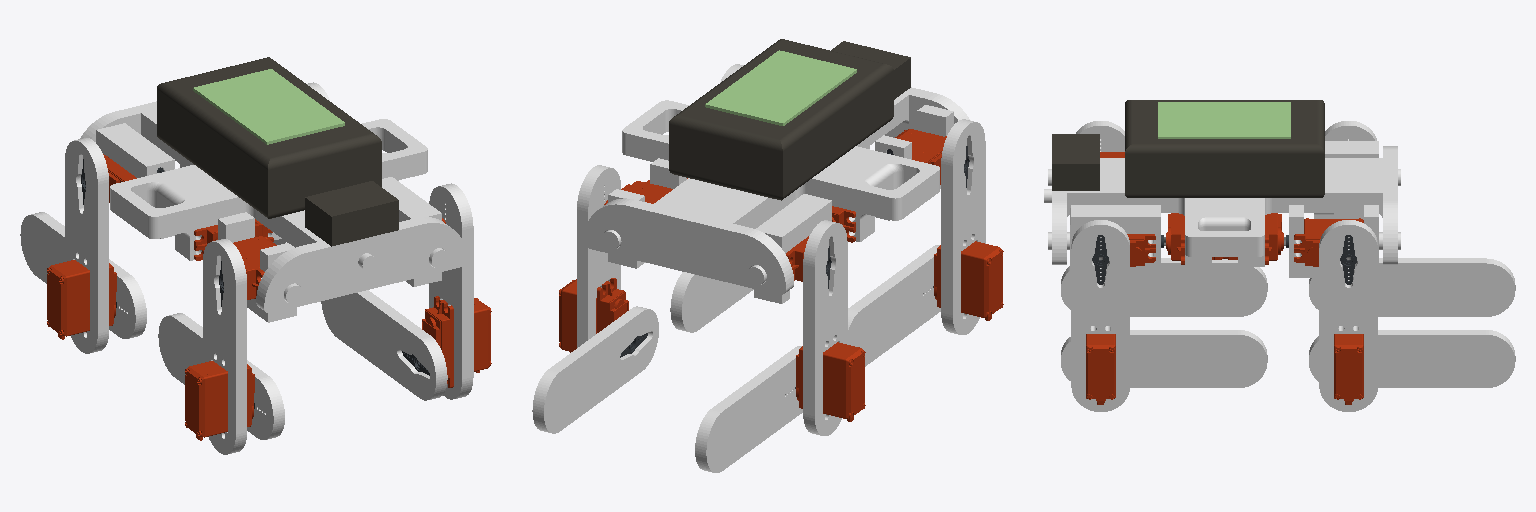
--- Render facts (derived) ---
3 views of the same robot in one strip: view 1: azimuth 30°, elevation 25°; view 2: azimuth 150°, elevation 25°; view 3: azimuth 270°, elevation 25° (orthographic).
Robot: servobot — 9 links, 8 joints (8 revolute); root link chassisasm; default pose: every joint at zero.
Visible links, largest first — view 1: chassisasm, legasmflipped2, legasm2, legasm, hipasm, hipasm_2, hipasm_4; view 2: chassisasm, legasm, legasm2, legasmflipped, hipasm_2, legasmflipped2, hipasm, hipasm_3; view 3: chassisasm, legasmflipped2, legasmflipped, legasm, legasm2, hipasm_4, hipasm_3, hipasm_2.
Boxes of the visible links, <box> form: chassisasm: <box>80,57,466,313</box>; legasmflipped2: <box>321,183,491,400</box>; legasm2: <box>158,239,284,454</box>; legasm: <box>20,138,146,353</box>; hipasm: <box>218,212,302,322</box>; hipasm_2: <box>96,123,174,202</box>; hipasm_4: <box>382,177,448,286</box>; chassisasm: <box>584,39,970,294</box>; legasm: <box>695,220,865,472</box>; legasm2: <box>848,119,1003,366</box>; legasmflipped: <box>532,165,658,433</box>; hipasm_2: <box>747,194,831,303</box>; legasmflipped2: <box>670,64,753,332</box>; hipasm: <box>875,105,953,188</box>; hipasm_3: <box>602,158,686,268</box>; chassisasm: <box>1044,100,1397,266</box>; legasmflipped2: <box>1061,220,1267,411</box>; legasmflipped: <box>1309,220,1515,411</box>; legasm: <box>1309,121,1515,316</box>; legasm2: <box>1061,121,1267,316</box>; hipasm_4: <box>1048,205,1163,277</box>; hipasm_3: <box>1286,205,1400,277</box>; hipasm_2: <box>1325,141,1400,185</box>.
Size in the robot's own frame: 0.2048 by 0.3186 by 0.1796 metres.
52 mesh visuals loaded from 10 distinct referenced files (10 binary STL).

The robot description file, URDF, robot "servobot":
<?xml version="1.0" ?>
<!-- Generated using onshape-to-robot -->
<!-- Onshape document_id: 260e550735e8edce21bf9c86 / workspace_id: 1dd4a4758e6c79e3140f12ff -->
<robot name="servobot">
  <!-- Link chassisasm -->
  <link name="chassisasm">
    <inertial>
      <origin xyz="8.45344e-11 -0.0316171 0.0051848" rpy="0 0 0"/>
      <mass value="1.41284"/>
      <inertia ixx="0.00541257" ixy="3.20299e-11" ixz="2.71365e-11" iyy="0.00160159" iyz="0.000214607" izz="0.0059559"/>
    </inertial>
    <!-- Part part_1 -->
    <visual>
      <origin xyz="1.66923e-17 1.11775e-18 0.04" rpy="3.14159 8.4717e-17 -1.27298e-16"/>
      <geometry>
        <mesh filename="package://servobot_description/meshes/part_1.stl"/>
      </geometry>
      <material name="part_1_material">
        <color rgba="0.301961 0.290196 0.262745 1"/>
      </material>
    </visual>
    <collision>
      <origin xyz="1.66923e-17 1.11775e-18 0.04" rpy="3.14159 8.4717e-17 -1.27298e-16"/>
      <geometry>
        <mesh filename="package://servobot_description/meshes/part_1.stl"/>
      </geometry>
    </collision>
    <!-- Part part_1_2 -->
    <visual>
      <origin xyz="-9.86021e-18 -0.10075 0.02" rpy="3.14159 -4.11687e-16 1.5708"/>
      <geometry>
        <mesh filename="package://servobot_description/meshes/part_1__2.stl"/>
      </geometry>
      <material name="part_1_2_material">
        <color rgba="0.301961 0.290196 0.262745 1"/>
      </material>
    </visual>
    <collision>
      <origin xyz="-9.86021e-18 -0.10075 0.02" rpy="3.14159 -4.11687e-16 1.5708"/>
      <geometry>
        <mesh filename="package://servobot_description/meshes/part_1__2.stl"/>
      </geometry>
    </collision>
    <!-- Part part_1_3 -->
    <visual>
      <origin xyz="-9.25776e-19 6.35691e-19 0.042" rpy="3.14159 1.46005e-16 2.42684e-17"/>
      <geometry>
        <mesh filename="package://servobot_description/meshes/part_1__3.stl"/>
      </geometry>
      <material name="part_1_3_material">
        <color rgba="0.654902 0.823529 0.576471 1"/>
      </material>
    </visual>
    <collision>
      <origin xyz="-9.25776e-19 6.35691e-19 0.042" rpy="3.14159 1.46005e-16 2.42684e-17"/>
      <geometry>
        <mesh filename="package://servobot_description/meshes/part_1__3.stl"/>
      </geometry>
    </collision>
    <!-- Part 2000_0025_0002 -->
    <visual>
      <origin xyz="0.06087 0.0387 -0.025" rpy="-1.5708 -0 0"/>
      <geometry>
        <mesh filename="package://servobot_description/meshes/2000_0025_0002.stl"/>
      </geometry>
      <material name="2000_0025_0002_material">
        <color rgba="0.498039 0.498039 0.498039 1"/>
      </material>
    </visual>
    <collision>
      <origin xyz="0.06087 0.0387 -0.025" rpy="-1.5708 -0 0"/>
      <geometry>
        <mesh filename="package://servobot_description/meshes/2000_0025_0002.stl"/>
      </geometry>
    </collision>
    <!-- Part part_1_4 -->
    <visual>
      <origin xyz="-6.93889e-18 1.38778e-17 -0.015" rpy="-3.88578e-16 2.07294e-16 1.75835e-16"/>
      <geometry>
        <mesh filename="package://servobot_description/meshes/part_1__4.stl"/>
      </geometry>
      <material name="part_1_4_material">
        <color rgba="0.917647 0.917647 0.917647 1"/>
      </material>
    </visual>
    <collision>
      <origin xyz="-6.93889e-18 1.38778e-17 -0.015" rpy="-3.88578e-16 2.07294e-16 1.75835e-16"/>
      <geometry>
        <mesh filename="package://servobot_description/meshes/part_1__4.stl"/>
      </geometry>
    </collision>
    <!-- Part 2000_0025_0002_2 -->
    <visual>
      <origin xyz="0.04117 0.0382 -0.025" rpy="1.5708 -0 3.14159"/>
      <geometry>
        <mesh filename="package://servobot_description/meshes/2000_0025_0002__2.stl"/>
      </geometry>
      <material name="2000_0025_0002_2_material">
        <color rgba="0.729412 0.25098 0.105882 1"/>
      </material>
    </visual>
    <collision>
      <origin xyz="0.04117 0.0382 -0.025" rpy="1.5708 -0 3.14159"/>
      <geometry>
        <mesh filename="package://servobot_description/meshes/2000_0025_0002__2.stl"/>
      </geometry>
    </collision>
    <!-- Part 2000_0025_0002_3 -->
    <visual>
      <origin xyz="-0.04117 -0.0387 -0.025" rpy="1.5708 -0 0"/>
      <geometry>
        <mesh filename="package://servobot_description/meshes/2000_0025_0002.stl"/>
      </geometry>
      <material name="2000_0025_0002_3_material">
        <color rgba="0.498039 0.498039 0.498039 1"/>
      </material>
    </visual>
    <collision>
      <origin xyz="-0.04117 -0.0387 -0.025" rpy="1.5708 -0 0"/>
      <geometry>
        <mesh filename="package://servobot_description/meshes/2000_0025_0002.stl"/>
      </geometry>
    </collision>
    <!-- Part 2000_0025_0002_4 -->
    <visual>
      <origin xyz="-0.04117 0.0387 -0.025" rpy="-1.5708 -0 0"/>
      <geometry>
        <mesh filename="package://servobot_description/meshes/2000_0025_0002.stl"/>
      </geometry>
      <material name="2000_0025_0002_4_material">
        <color rgba="0.498039 0.498039 0.498039 1"/>
      </material>
    </visual>
    <collision>
      <origin xyz="-0.04117 0.0387 -0.025" rpy="-1.5708 -0 0"/>
      <geometry>
        <mesh filename="package://servobot_description/meshes/2000_0025_0002.stl"/>
      </geometry>
    </collision>
    <!-- Part 2000_0025_0002_5 -->
    <visual>
      <origin xyz="-0.04117 -0.0382 -0.025" rpy="1.5708 -0 0"/>
      <geometry>
        <mesh filename="package://servobot_description/meshes/2000_0025_0002__2.stl"/>
      </geometry>
      <material name="2000_0025_0002_5_material">
        <color rgba="0.729412 0.25098 0.105882 1"/>
      </material>
    </visual>
    <collision>
      <origin xyz="-0.04117 -0.0382 -0.025" rpy="1.5708 -0 0"/>
      <geometry>
        <mesh filename="package://servobot_description/meshes/2000_0025_0002__2.stl"/>
      </geometry>
    </collision>
    <!-- Part 2000_0025_0002_6 -->
    <visual>
      <origin xyz="-0.04117 0.0382 -0.025" rpy="-1.5708 -0 0"/>
      <geometry>
        <mesh filename="package://servobot_description/meshes/2000_0025_0002__2.stl"/>
      </geometry>
      <material name="2000_0025_0002_6_material">
        <color rgba="0.729412 0.25098 0.105882 1"/>
      </material>
    </visual>
    <collision>
      <origin xyz="-0.04117 0.0382 -0.025" rpy="-1.5708 -0 0"/>
      <geometry>
        <mesh filename="package://servobot_description/meshes/2000_0025_0002__2.stl"/>
      </geometry>
    </collision>
    <!-- Part 2000_0025_0002_7 -->
    <visual>
      <origin xyz="0.04117 -0.0382 -0.025" rpy="-1.5708 -0 3.14159"/>
      <geometry>
        <mesh filename="package://servobot_description/meshes/2000_0025_0002__2.stl"/>
      </geometry>
      <material name="2000_0025_0002_7_material">
        <color rgba="0.729412 0.25098 0.105882 1"/>
      </material>
    </visual>
    <collision>
      <origin xyz="0.04117 -0.0382 -0.025" rpy="-1.5708 -0 3.14159"/>
      <geometry>
        <mesh filename="package://servobot_description/meshes/2000_0025_0002__2.stl"/>
      </geometry>
    </collision>
    <!-- Part 2000_0025_0002_8 -->
    <visual>
      <origin xyz="0.06087 -0.0387 -0.025" rpy="1.5708 -0 0"/>
      <geometry>
        <mesh filename="package://servobot_description/meshes/2000_0025_0002.stl"/>
      </geometry>
      <material name="2000_0025_0002_8_material">
        <color rgba="0.498039 0.498039 0.498039 1"/>
      </material>
    </visual>
    <collision>
      <origin xyz="0.06087 -0.0387 -0.025" rpy="1.5708 -0 0"/>
      <geometry>
        <mesh filename="package://servobot_description/meshes/2000_0025_0002.stl"/>
      </geometry>
    </collision>
  </link>
  <!-- Link hipasm -->
  <link name="hipasm">
    <inertial>
      <origin xyz="-0.00193017 0.000954683 -0.0300833" rpy="0 0 0"/>
      <mass value="0.0717895"/>
      <inertia ixx="1.86244e-05" ixy="-1.32286e-07" ixz="-6.33322e-08" iyy="2.19537e-05" iyz="-3.99788e-08" izz="1.18822e-05"/>
    </inertial>
    <!-- Part 2000_0025_0002_9 -->
    <visual>
      <origin xyz="-0.0217 5.55112e-17 -0.0296" rpy="-6.1089e-26 -1.5708 0"/>
      <geometry>
        <mesh filename="package://servobot_description/meshes/2000_0025_0002.stl"/>
      </geometry>
      <material name="2000_0025_0002_9_material">
        <color rgba="0.498039 0.498039 0.498039 1"/>
      </material>
    </visual>
    <collision>
      <origin xyz="-0.0217 5.55112e-17 -0.0296" rpy="-6.1089e-26 -1.5708 0"/>
      <geometry>
        <mesh filename="package://servobot_description/meshes/2000_0025_0002.stl"/>
      </geometry>
    </collision>
    <!-- Part part_1_5 -->
    <visual>
      <origin xyz="0.01 -3.46945e-18 -0.0295" rpy="-3.14159 1.5708 0"/>
      <geometry>
        <mesh filename="package://servobot_description/meshes/part_1__5.stl"/>
      </geometry>
      <material name="part_1_5_material">
        <color rgba="0.917647 0.917647 0.917647 1"/>
      </material>
    </visual>
    <collision>
      <origin xyz="0.01 -3.46945e-18 -0.0295" rpy="-3.14159 1.5708 0"/>
      <geometry>
        <mesh filename="package://servobot_description/meshes/part_1__5.stl"/>
      </geometry>
    </collision>
    <!-- Part 2000_0025_0002_10 -->
    <visual>
      <origin xyz="-0.0212 6.245e-17 -0.0296" rpy="1.90215e-31 -1.5708 0"/>
      <geometry>
        <mesh filename="package://servobot_description/meshes/2000_0025_0002__2.stl"/>
      </geometry>
      <material name="2000_0025_0002_10_material">
        <color rgba="0.729412 0.25098 0.105882 1"/>
      </material>
    </visual>
    <collision>
      <origin xyz="-0.0212 6.245e-17 -0.0296" rpy="1.90215e-31 -1.5708 0"/>
      <geometry>
        <mesh filename="package://servobot_description/meshes/2000_0025_0002__2.stl"/>
      </geometry>
    </collision>
    <!-- Part mg995_gear2 -->
    <visual>
      <origin xyz="0 0 -0.002" rpy="0 -0 0"/>
      <geometry>
        <mesh filename="package://servobot_description/meshes/mg995_gear2.stl"/>
      </geometry>
      <material name="mg995_gear2_material">
        <color rgba="0.262745 0.282353 0.301961 1"/>
      </material>
    </visual>
    <collision>
      <origin xyz="0 0 -0.002" rpy="0 -0 0"/>
      <geometry>
        <mesh filename="package://servobot_description/meshes/mg995_gear2.stl"/>
      </geometry>
    </collision>
  </link>
  <!-- Link legasm2 -->
  <link name="legasm2">
    <inertial>
      <origin xyz="-0.00824415 0.071376 0.000683005" rpy="0 0 0"/>
      <mass value="0.0908915"/>
      <inertia ixx="6.6747e-05" ixy="1.02938e-05" ixz="1.55237e-05" iyy="7.17021e-05" iyz="-4.38861e-06" izz="0.00010584"/>
    </inertial>
    <!-- Part mg995_gear2_2 -->
    <visual>
      <origin xyz="0 0 -0.002" rpy="0 -3.39112e-41 0"/>
      <geometry>
        <mesh filename="package://servobot_description/meshes/mg995_gear2.stl"/>
      </geometry>
      <material name="mg995_gear2_2_material">
        <color rgba="0.262745 0.282353 0.301961 1"/>
      </material>
    </visual>
    <collision>
      <origin xyz="0 0 -0.002" rpy="0 -3.39112e-41 0"/>
      <geometry>
        <mesh filename="package://servobot_description/meshes/mg995_gear2.stl"/>
      </geometry>
    </collision>
    <!-- Part part_1_6 -->
    <visual>
      <origin xyz="-0.0427644 0.0851134 0.0174" rpy="3.03099e-18 2.00394e-17 -1.5708"/>
      <geometry>
        <mesh filename="package://servobot_description/meshes/part_1__6.stl"/>
      </geometry>
      <material name="part_1_6_material">
        <color rgba="0.917647 0.917647 0.917647 1"/>
      </material>
    </visual>
    <collision>
      <origin xyz="-0.0427644 0.0851134 0.0174" rpy="3.03099e-18 2.00394e-17 -1.5708"/>
      <geometry>
        <mesh filename="package://servobot_description/meshes/part_1__6.stl"/>
      </geometry>
    </collision>
    <!-- Part part_1_7 -->
    <visual>
      <origin xyz="-2.77556e-17 0.0425934 0.003" rpy="-3.14159 4.93038e-32 5.55112e-17"/>
      <geometry>
        <mesh filename="package://servobot_description/meshes/part_1__7.stl"/>
      </geometry>
      <material name="part_1_7_material">
        <color rgba="0.917647 0.917647 0.917647 1"/>
      </material>
    </visual>
    <collision>
      <origin xyz="-2.77556e-17 0.0425934 0.003" rpy="-3.14159 4.93038e-32 5.55112e-17"/>
      <geometry>
        <mesh filename="package://servobot_description/meshes/part_1__7.stl"/>
      </geometry>
    </collision>
    <!-- Part 2000_0025_0002_11 -->
    <visual>
      <origin xyz="-2.77556e-17 0.0752634 0.0142" rpy="3.03099e-18 2.00394e-17 -1.5708"/>
      <geometry>
        <mesh filename="package://servobot_description/meshes/2000_0025_0002__2.stl"/>
      </geometry>
      <material name="2000_0025_0002_11_material">
        <color rgba="0.729412 0.25098 0.105882 1"/>
      </material>
    </visual>
    <collision>
      <origin xyz="-2.77556e-17 0.0752634 0.0142" rpy="3.03099e-18 2.00394e-17 -1.5708"/>
      <geometry>
        <mesh filename="package://servobot_description/meshes/2000_0025_0002__2.stl"/>
      </geometry>
    </collision>
    <!-- Part 2000_0025_0002_12 -->
    <visual>
      <origin xyz="2.77556e-17 0.0752634 0.0147" rpy="-3.17154e-17 2.00394e-17 -1.5708"/>
      <geometry>
        <mesh filename="package://servobot_description/meshes/2000_0025_0002.stl"/>
      </geometry>
      <material name="2000_0025_0002_12_material">
        <color rgba="0.498039 0.498039 0.498039 1"/>
      </material>
    </visual>
    <collision>
      <origin xyz="2.77556e-17 0.0752634 0.0147" rpy="-3.17154e-17 2.00394e-17 -1.5708"/>
      <geometry>
        <mesh filename="package://servobot_description/meshes/2000_0025_0002.stl"/>
      </geometry>
    </collision>
    <!-- Part mg995_gear2_3 -->
    <visual>
      <origin xyz="2.77556e-17 0.0851134 0.0224" rpy="-3.14159 -2.00394e-17 1.5708"/>
      <geometry>
        <mesh filename="package://servobot_description/meshes/mg995_gear2.stl"/>
      </geometry>
      <material name="mg995_gear2_3_material">
        <color rgba="0.262745 0.282353 0.301961 1"/>
      </material>
    </visual>
    <collision>
      <origin xyz="2.77556e-17 0.0851134 0.0224" rpy="-3.14159 -2.00394e-17 1.5708"/>
      <geometry>
        <mesh filename="package://servobot_description/meshes/mg995_gear2.stl"/>
      </geometry>
    </collision>
  </link>
  <!-- Joint from hipasm to legasm2 -->
  <joint name="bl_top" type="revolute">
    <origin xyz="-0.0274 2.77556e-17 -0.03945" rpy="6.1089e-26 1.5708 0"/>
    <parent link="hipasm"/>
    <child link="legasm2"/>
    <axis xyz="0 0 1"/>
    <limit effort="10" velocity="10" lower="-3.14159" upper="3.14159"/>
  </joint>
  <!-- Joint from chassisasm to hipasm -->
  <joint name="bl_hip" type="revolute">
    <origin xyz="-0.05102 -0.0444 -0.025" rpy="-1.5708 -0 0"/>
    <parent link="chassisasm"/>
    <child link="hipasm"/>
    <axis xyz="0 0 1"/>
    <limit effort="10" velocity="10" lower="-1" upper="1"/>
  </joint>
  <!-- Link hipasm_2 -->
  <link name="hipasm_2">
    <inertial>
      <origin xyz="-0.00193017 0.000954683 -0.0300833" rpy="0 0 0"/>
      <mass value="0.0717895"/>
      <inertia ixx="1.86244e-05" ixy="-1.32286e-07" ixz="-6.33322e-08" iyy="2.19537e-05" iyz="-3.99788e-08" izz="1.18822e-05"/>
    </inertial>
    <!-- Part 2000_0025_0002_13 -->
    <visual>
      <origin xyz="-0.0217 6.245e-17 -0.0296" rpy="-0 -1.5708 0"/>
      <geometry>
        <mesh filename="package://servobot_description/meshes/2000_0025_0002.stl"/>
      </geometry>
      <material name="2000_0025_0002_13_material">
        <color rgba="0.498039 0.498039 0.498039 1"/>
      </material>
    </visual>
    <collision>
      <origin xyz="-0.0217 6.245e-17 -0.0296" rpy="-0 -1.5708 0"/>
      <geometry>
        <mesh filename="package://servobot_description/meshes/2000_0025_0002.stl"/>
      </geometry>
    </collision>
    <!-- Part part_1_8 -->
    <visual>
      <origin xyz="0.01 -3.46945e-18 -0.0295" rpy="-3.14159 1.5708 0"/>
      <geometry>
        <mesh filename="package://servobot_description/meshes/part_1__5.stl"/>
      </geometry>
      <material name="part_1_8_material">
        <color rgba="0.917647 0.917647 0.917647 1"/>
      </material>
    </visual>
    <collision>
      <origin xyz="0.01 -3.46945e-18 -0.0295" rpy="-3.14159 1.5708 0"/>
      <geometry>
        <mesh filename="package://servobot_description/meshes/part_1__5.stl"/>
      </geometry>
    </collision>
    <!-- Part 2000_0025_0002_14 -->
    <visual>
      <origin xyz="-0.0212 7.28584e-17 -0.0296" rpy="-0 -1.5708 0"/>
      <geometry>
        <mesh filename="package://servobot_description/meshes/2000_0025_0002__2.stl"/>
      </geometry>
      <material name="2000_0025_0002_14_material">
        <color rgba="0.729412 0.25098 0.105882 1"/>
      </material>
    </visual>
    <collision>
      <origin xyz="-0.0212 7.28584e-17 -0.0296" rpy="-0 -1.5708 0"/>
      <geometry>
        <mesh filename="package://servobot_description/meshes/2000_0025_0002__2.stl"/>
      </geometry>
    </collision>
    <!-- Part mg995_gear2_4 -->
    <visual>
      <origin xyz="0 0 -0.002" rpy="0 -0 0"/>
      <geometry>
        <mesh filename="package://servobot_description/meshes/mg995_gear2.stl"/>
      </geometry>
      <material name="mg995_gear2_4_material">
        <color rgba="0.262745 0.282353 0.301961 1"/>
      </material>
    </visual>
    <collision>
      <origin xyz="0 0 -0.002" rpy="0 -0 0"/>
      <geometry>
        <mesh filename="package://servobot_description/meshes/mg995_gear2.stl"/>
      </geometry>
    </collision>
  </link>
  <!-- Link legasm -->
  <link name="legasm">
    <inertial>
      <origin xyz="-0.00824415 0.071376 0.000683005" rpy="0 0 0"/>
      <mass value="0.0908915"/>
      <inertia ixx="6.6747e-05" ixy="1.02938e-05" ixz="1.55237e-05" iyy="7.17021e-05" iyz="-4.38861e-06" izz="0.00010584"/>
    </inertial>
    <!-- Part mg995_gear2_5 -->
    <visual>
      <origin xyz="-1.38778e-17 0 -0.002" rpy="0 -0 2.34193e-31"/>
      <geometry>
        <mesh filename="package://servobot_description/meshes/mg995_gear2.stl"/>
      </geometry>
      <material name="mg995_gear2_5_material">
        <color rgba="0.262745 0.282353 0.301961 1"/>
      </material>
    </visual>
    <collision>
      <origin xyz="-1.38778e-17 0 -0.002" rpy="0 -0 2.34193e-31"/>
      <geometry>
        <mesh filename="package://servobot_description/meshes/mg995_gear2.stl"/>
      </geometry>
    </collision>
    <!-- Part part_1_9 -->
    <visual>
      <origin xyz="-0.0427644 0.0851134 0.0174" rpy="0 -0 -1.5708"/>
      <geometry>
        <mesh filename="package://servobot_description/meshes/part_1__6.stl"/>
      </geometry>
      <material name="part_1_9_material">
        <color rgba="0.917647 0.917647 0.917647 1"/>
      </material>
    </visual>
    <collision>
      <origin xyz="-0.0427644 0.0851134 0.0174" rpy="0 -0 -1.5708"/>
      <geometry>
        <mesh filename="package://servobot_description/meshes/part_1__6.stl"/>
      </geometry>
    </collision>
    <!-- Part part_1_10 -->
    <visual>
      <origin xyz="2.77556e-17 0.0425934 0.003" rpy="3.14159 -0 3.05311e-16"/>
      <geometry>
        <mesh filename="package://servobot_description/meshes/part_1__7.stl"/>
      </geometry>
      <material name="part_1_10_material">
        <color rgba="0.917647 0.917647 0.917647 1"/>
      </material>
    </visual>
    <collision>
      <origin xyz="2.77556e-17 0.0425934 0.003" rpy="3.14159 -0 3.05311e-16"/>
      <geometry>
        <mesh filename="package://servobot_description/meshes/part_1__7.stl"/>
      </geometry>
    </collision>
    <!-- Part 2000_0025_0002_15 -->
    <visual>
      <origin xyz="4.16334e-17 0.0752634 0.0142" rpy="0 -0 -1.5708"/>
      <geometry>
        <mesh filename="package://servobot_description/meshes/2000_0025_0002__2.stl"/>
      </geometry>
      <material name="2000_0025_0002_15_material">
        <color rgba="0.729412 0.25098 0.105882 1"/>
      </material>
    </visual>
    <collision>
      <origin xyz="4.16334e-17 0.0752634 0.0142" rpy="0 -0 -1.5708"/>
      <geometry>
        <mesh filename="package://servobot_description/meshes/2000_0025_0002__2.stl"/>
      </geometry>
    </collision>
    <!-- Part 2000_0025_0002_16 -->
    <visual>
      <origin xyz="2.77556e-17 0.0752634 0.0147" rpy="0 -0 -1.5708"/>
      <geometry>
        <mesh filename="package://servobot_description/meshes/2000_0025_0002.stl"/>
      </geometry>
      <material name="2000_0025_0002_16_material">
        <color rgba="0.498039 0.498039 0.498039 1"/>
      </material>
    </visual>
    <collision>
      <origin xyz="2.77556e-17 0.0752634 0.0147" rpy="0 -0 -1.5708"/>
      <geometry>
        <mesh filename="package://servobot_description/meshes/2000_0025_0002.stl"/>
      </geometry>
    </collision>
    <!-- Part mg995_gear2_6 -->
    <visual>
      <origin xyz="4.16334e-17 0.0851134 0.0224" rpy="3.14159 -0 1.5708"/>
      <geometry>
        <mesh filename="package://servobot_description/meshes/mg995_gear2.stl"/>
      </geometry>
      <material name="mg995_gear2_6_material">
        <color rgba="0.262745 0.282353 0.301961 1"/>
      </material>
    </visual>
    <collision>
      <origin xyz="4.16334e-17 0.0851134 0.0224" rpy="3.14159 -0 1.5708"/>
      <geometry>
        <mesh filename="package://servobot_description/meshes/mg995_gear2.stl"/>
      </geometry>
    </collision>
  </link>
  <!-- Joint from hipasm_2 to legasm -->
  <joint name="fl_top" type="revolute">
    <origin xyz="-0.0274 6.245e-17 -0.03945" rpy="-3.14159 -1.5708 0"/>
    <parent link="hipasm_2"/>
    <child link="legasm"/>
    <axis xyz="0 0 1"/>
    <limit effort="10" velocity="10" lower="-3.14159" upper="3.14159"/>
  </joint>
  <!-- Joint from chassisasm to hipasm_2 -->
  <joint name="fl_hip" type="revolute">
    <origin xyz="-0.05102 0.0444 -0.025" rpy="1.5708 -0 0"/>
    <parent link="chassisasm"/>
    <child link="hipasm_2"/>
    <axis xyz="0 0 1"/>
    <limit effort="10" velocity="10" lower="-1" upper="1"/>
  </joint>
  <!-- Link hipasm_3 -->
  <link name="hipasm_3">
    <inertial>
      <origin xyz="-0.00193017 0.000954683 -0.0300833" rpy="0 0 0"/>
      <mass value="0.0717895"/>
      <inertia ixx="1.86244e-05" ixy="-1.32286e-07" ixz="-6.33322e-08" iyy="2.19537e-05" iyz="-3.99788e-08" izz="1.18822e-05"/>
    </inertial>
    <!-- Part 2000_0025_0002_17 -->
    <visual>
      <origin xyz="-0.0217 4.16334e-17 -0.0296" rpy="-0 -1.5708 0"/>
      <geometry>
        <mesh filename="package://servobot_description/meshes/2000_0025_0002.stl"/>
      </geometry>
      <material name="2000_0025_0002_17_material">
        <color rgba="0.498039 0.498039 0.498039 1"/>
      </material>
    </visual>
    <collision>
      <origin xyz="-0.0217 4.16334e-17 -0.0296" rpy="-0 -1.5708 0"/>
      <geometry>
        <mesh filename="package://servobot_description/meshes/2000_0025_0002.stl"/>
      </geometry>
    </collision>
    <!-- Part part_1_11 -->
    <visual>
      <origin xyz="0.01 -3.46945e-18 -0.0295" rpy="-3.14159 1.5708 0"/>
      <geometry>
        <mesh filename="package://servobot_description/meshes/part_1__5.stl"/>
      </geometry>
      <material name="part_1_11_material">
        <color rgba="0.917647 0.917647 0.917647 1"/>
      </material>
    </visual>
    <collision>
      <origin xyz="0.01 -3.46945e-18 -0.0295" rpy="-3.14159 1.5708 0"/>
      <geometry>
        <mesh filename="package://servobot_description/meshes/part_1__5.stl"/>
      </geometry>
    </collision>
    <!-- Part 2000_0025_0002_18 -->
    <visual>
      <origin xyz="-0.0212 5.20417e-17 -0.0296" rpy="-0 -1.5708 0"/>
      <geometry>
        <mesh filename="package://servobot_description/meshes/2000_0025_0002__2.stl"/>
      </geometry>
      <material name="2000_0025_0002_18_material">
        <color rgba="0.729412 0.25098 0.105882 1"/>
      </material>
    </visual>
    <collision>
      <origin xyz="-0.0212 5.20417e-17 -0.0296" rpy="-0 -1.5708 0"/>
      <geometry>
        <mesh filename="package://servobot_description/meshes/2000_0025_0002__2.stl"/>
      </geometry>
    </collision>
    <!-- Part mg995_gear2_7 -->
    <visual>
      <origin xyz="0 0 -0.002" rpy="0 -0 0"/>
      <geometry>
        <mesh filename="package://servobot_description/meshes/mg995_gear2.stl"/>
      </geometry>
      <material name="mg995_gear2_7_material">
        <color rgba="0.262745 0.282353 0.301961 1"/>
      </material>
    </visual>
    <collision>
      <origin xyz="0 0 -0.002" rpy="0 -0 0"/>
      <geometry>
        <mesh filename="package://servobot_description/meshes/mg995_gear2.stl"/>
      </geometry>
    </collision>
  </link>
  <!-- Link legasmflipped -->
  <link name="legasmflipped">
    <inertial>
      <origin xyz="0.00824415 0.071376 0.000683005" rpy="0 0 0"/>
      <mass value="0.0908915"/>
      <inertia ixx="6.6747e-05" ixy="-1.02938e-05" ixz="-1.55237e-05" iyy="7.17021e-05" iyz="-4.38861e-06" izz="0.00010584"/>
    </inertial>
    <!-- Part mg995_gear2_8 -->
    <visual>
      <origin xyz="0 0 -0.002" rpy="0 -0 -2.46519e-32"/>
      <geometry>
        <mesh filename="package://servobot_description/meshes/mg995_gear2.stl"/>
      </geometry>
      <material name="mg995_gear2_8_material">
        <color rgba="0.262745 0.282353 0.301961 1"/>
      </material>
    </visual>
    <collision>
      <origin xyz="0 0 -0.002" rpy="0 -0 -2.46519e-32"/>
      <geometry>
        <mesh filename="package://servobot_description/meshes/mg995_gear2.stl"/>
      </geometry>
    </collision>
    <!-- Part part_1_12 -->
    <visual>
      <origin xyz="0.0427644 0.0851134 0.0174" rpy="1.1993e-17 -8.06087e-17 1.5708"/>
      <geometry>
        <mesh filename="package://servobot_description/meshes/part_1__6.stl"/>
      </geometry>
      <material name="part_1_12_material">
        <color rgba="0.917647 0.917647 0.917647 1"/>
      </material>
    </visual>
    <collision>
      <origin xyz="0.0427644 0.0851134 0.0174" rpy="1.1993e-17 -8.06087e-17 1.5708"/>
      <geometry>
        <mesh filename="package://servobot_description/meshes/part_1__6.stl"/>
      </geometry>
    </collision>
    <!-- Part part_1_13 -->
    <visual>
      <origin xyz="-8.32667e-17 0.0425934 0.003" rpy="-3.14159 8.50122e-16 -1.30122e-15"/>
      <geometry>
        <mesh filename="package://servobot_description/meshes/part_1__7.stl"/>
      </geometry>
      <material name="part_1_13_material">
        <color rgba="0.917647 0.917647 0.917647 1"/>
      </material>
    </visual>
    <collision>
      <origin xyz="-8.32667e-17 0.0425934 0.003" rpy="-3.14159 8.50122e-16 -1.30122e-15"/>
      <geometry>
        <mesh filename="package://servobot_description/meshes/part_1__7.stl"/>
      </geometry>
    </collision>
    <!-- Part 2000_0025_0002_19 -->
    <visual>
      <origin xyz="-1.80411e-16 0.0752634 0.0142" rpy="-1.69366e-15 4.58953e-16 -1.5708"/>
      <geometry>
        <mesh filename="package://servobot_description/meshes/2000_0025_0002__2.stl"/>
      </geometry>
      <material name="2000_0025_0002_19_material">
        <color rgba="0.729412 0.25098 0.105882 1"/>
      </material>
    </visual>
    <collision>
      <origin xyz="-1.80411e-16 0.0752634 0.0142" rpy="-1.69366e-15 4.58953e-16 -1.5708"/>
      <geometry>
        <mesh filename="package://servobot_description/meshes/2000_0025_0002__2.stl"/>
      </geometry>
    </collision>
    <!-- Part 2000_0025_0002_20 -->
    <visual>
      <origin xyz="-2.63678e-16 0.0949634 0.0147" rpy="4.62084e-16 6.20402e-16 1.5708"/>
      <geometry>
        <mesh filename="package://servobot_description/meshes/2000_0025_0002.stl"/>
      </geometry>
      <material name="2000_0025_0002_20_material">
        <color rgba="0.498039 0.498039 0.498039 1"/>
      </material>
    </visual>
    <collision>
      <origin xyz="-2.63678e-16 0.0949634 0.0147" rpy="4.62084e-16 6.20402e-16 1.5708"/>
      <geometry>
        <mesh filename="package://servobot_description/meshes/2000_0025_0002.stl"/>
      </geometry>
    </collision>
    <!-- Part mg995_gear2_9 -->
    <visual>
      <origin xyz="-2.63678e-16 0.0851134 0.0224" rpy="-3.14159 -2.13928e-16 -1.5708"/>
      <geometry>
        <mesh filename="package://servobot_description/meshes/mg995_gear2.stl"/>
      </geometry>
      <material name="mg995_gear2_9_material">
        <color rgba="0.262745 0.282353 0.301961 1"/>
      </material>
    </visual>
    <collision>
      <origin xyz="-2.63678e-16 0.0851134 0.0224" rpy="-3.14159 -2.13928e-16 -1.5708"/>
      <geometry>
        <mesh filename="package://servobot_description/meshes/mg995_gear2.stl"/>
      </geometry>
    </collision>
  </link>
  <!-- Joint from hipasm_3 to legasmflipped -->
  <joint name="fr_top" type="revolute">
    <origin xyz="-0.0274 4.85723e-17 -0.03945" rpy="-0 1.5708 0"/>
    <parent link="hipasm_3"/>
    <child link="legasmflipped"/>
    <axis xyz="0 0 1"/>
    <limit effort="10" velocity="10" lower="-3.14159" upper="3.14159"/>
  </joint>
  <!-- Joint from chassisasm to hipasm_3 -->
  <joint name="fr_hip" type="revolute">
    <origin xyz="0.05102 0.0444 -0.025" rpy="-1.5708 -0 3.14159"/>
    <parent link="chassisasm"/>
    <child link="hipasm_3"/>
    <axis xyz="0 0 1"/>
    <limit effort="10" velocity="10" lower="-1" upper="1"/>
  </joint>
  <!-- Link hipasm_4 -->
  <link name="hipasm_4">
    <inertial>
      <origin xyz="-0.00193017 0.000954683 -0.0300833" rpy="0 0 0"/>
      <mass value="0.0717895"/>
      <inertia ixx="1.86244e-05" ixy="-1.32286e-07" ixz="-6.33322e-08" iyy="2.19537e-05" iyz="-3.99788e-08" izz="1.18822e-05"/>
    </inertial>
    <!-- Part 2000_0025_0002_21 -->
    <visual>
      <origin xyz="-0.0217 5.55112e-17 -0.0296" rpy="-5.77604e-16 -1.5708 0"/>
      <geometry>
        <mesh filename="package://servobot_description/meshes/2000_0025_0002.stl"/>
      </geometry>
      <material name="2000_0025_0002_21_material">
        <color rgba="0.498039 0.498039 0.498039 1"/>
      </material>
    </visual>
    <collision>
      <origin xyz="-0.0217 5.55112e-17 -0.0296" rpy="-5.77604e-16 -1.5708 0"/>
      <geometry>
        <mesh filename="package://servobot_description/meshes/2000_0025_0002.stl"/>
      </geometry>
    </collision>
    <!-- Part part_1_14 -->
    <visual>
      <origin xyz="0.01 -3.46945e-18 -0.0295" rpy="-3.14159 1.5708 0"/>
      <geometry>
        <mesh filename="package://servobot_description/meshes/part_1__5.stl"/>
      </geometry>
      <material name="part_1_14_material">
        <color rgba="0.917647 0.917647 0.917647 1"/>
      </material>
    </visual>
    <collision>
      <origin xyz="0.01 -3.46945e-18 -0.0295" rpy="-3.14159 1.5708 0"/>
      <geometry>
        <mesh filename="package://servobot_description/meshes/part_1__5.stl"/>
      </geometry>
    </collision>
    <!-- Part 2000_0025_0002_22 -->
    <visual>
      <origin xyz="-0.0212 6.245e-17 -0.0296" rpy="-2.85027e-16 -1.5708 0"/>
      <geometry>
        <mesh filename="package://servobot_description/meshes/2000_0025_0002__2.stl"/>
      </geometry>
      <material name="2000_0025_0002_22_material">
        <color rgba="0.729412 0.25098 0.105882 1"/>
      </material>
    </visual>
    <collision>
      <origin xyz="-0.0212 6.245e-17 -0.0296" rpy="-2.85027e-16 -1.5708 0"/>
      <geometry>
        <mesh filename="package://servobot_description/meshes/2000_0025_0002__2.stl"/>
      </geometry>
    </collision>
    <!-- Part mg995_gear2_10 -->
    <visual>
      <origin xyz="0 0 -0.002" rpy="0 -0 0"/>
      <geometry>
        <mesh filename="package://servobot_description/meshes/mg995_gear2.stl"/>
      </geometry>
      <material name="mg995_gear2_10_material">
        <color rgba="0.262745 0.282353 0.301961 1"/>
      </material>
    </visual>
    <collision>
      <origin xyz="0 0 -0.002" rpy="0 -0 0"/>
      <geometry>
        <mesh filename="package://servobot_description/meshes/mg995_gear2.stl"/>
      </geometry>
    </collision>
  </link>
  <!-- Link legasmflipped2 -->
  <link name="legasmflipped2">
    <inertial>
      <origin xyz="0.00824415 0.071376 0.000683005" rpy="0 0 0"/>
      <mass value="0.0908915"/>
      <inertia ixx="6.6747e-05" ixy="-1.02938e-05" ixz="-1.55237e-05" iyy="7.17021e-05" iyz="-4.38861e-06" izz="0.00010584"/>
    </inertial>
    <!-- Part mg995_gear2_11 -->
    <visual>
      <origin xyz="0 0 -0.002" rpy="0 2.57699e-33 0"/>
      <geometry>
        <mesh filename="package://servobot_description/meshes/mg995_gear2.stl"/>
      </geometry>
      <material name="mg995_gear2_11_material">
        <color rgba="0.262745 0.282353 0.301961 1"/>
      </material>
    </visual>
    <collision>
      <origin xyz="0 0 -0.002" rpy="0 2.57699e-33 0"/>
      <geometry>
        <mesh filename="package://servobot_description/meshes/mg995_gear2.stl"/>
      </geometry>
    </collision>
    <!-- Part part_1_15 -->
    <visual>
      <origin xyz="0.0427644 0.0851134 0.0174" rpy="2.16429e-16 -1.17897e-16 1.5708"/>
      <geometry>
        <mesh filename="package://servobot_description/meshes/part_1__6.stl"/>
      </geometry>
      <material name="part_1_15_material">
        <color rgba="0.917647 0.917647 0.917647 1"/>
      </material>
    </visual>
    <collision>
      <origin xyz="0.0427644 0.0851134 0.0174" rpy="2.16429e-16 -1.17897e-16 1.5708"/>
      <geometry>
        <mesh filename="package://servobot_description/meshes/part_1__6.stl"/>
      </geometry>
    </collision>
    <!-- Part part_1_16 -->
    <visual>
      <origin xyz="0 0.0425934 0.003" rpy="-3.14159 1.08596e-31 -5.55112e-17"/>
      <geometry>
        <mesh filename="package://servobot_description/meshes/part_1__7.stl"/>
      </geometry>
      <material name="part_1_16_material">
        <color rgba="0.917647 0.917647 0.917647 1"/>
      </material>
    </visual>
    <collision>
      <origin xyz="0 0.0425934 0.003" rpy="-3.14159 1.08596e-31 -5.55112e-17"/>
      <geometry>
        <mesh filename="package://servobot_description/meshes/part_1__7.stl"/>
      </geometry>
    </collision>
    <!-- Part 2000_0025_0002_23 -->
    <visual>
      <origin xyz="-1.38778e-17 0.0752634 0.0142" rpy="1.10168e-17 -3.2762e-18 -1.5708"/>
      <geometry>
        <mesh filename="package://servobot_description/meshes/2000_0025_0002__2.stl"/>
      </geometry>
      <material name="2000_0025_0002_23_material">
        <color rgba="0.729412 0.25098 0.105882 1"/>
      </material>
    </visual>
    <collision>
      <origin xyz="-1.38778e-17 0.0752634 0.0142" rpy="1.10168e-17 -3.2762e-18 -1.5708"/>
      <geometry>
        <mesh filename="package://servobot_description/meshes/2000_0025_0002__2.stl"/>
      </geometry>
    </collision>
    <!-- Part 2000_0025_0002_24 -->
    <visual>
      <origin xyz="-1.38778e-17 0.0949634 0.0147" rpy="8.8305e-17 -1.22783e-16 1.5708"/>
      <geometry>
        <mesh filename="package://servobot_description/meshes/2000_0025_0002.stl"/>
      </geometry>
      <material name="2000_0025_0002_24_material">
        <color rgba="0.498039 0.498039 0.498039 1"/>
      </material>
    </visual>
    <collision>
      <origin xyz="-1.38778e-17 0.0949634 0.0147" rpy="8.8305e-17 -1.22783e-16 1.5708"/>
      <geometry>
        <mesh filename="package://servobot_description/meshes/2000_0025_0002.stl"/>
      </geometry>
    </collision>
    <!-- Part mg995_gear2_12 -->
    <visual>
      <origin xyz="1.38778e-17 0.0851134 0.0224" rpy="3.14159 2.12846e-16 -1.5708"/>
      <geometry>
        <mesh filename="package://servobot_description/meshes/mg995_gear2.stl"/>
      </geometry>
      <material name="mg995_gear2_12_material">
        <color rgba="0.262745 0.282353 0.301961 1"/>
      </material>
    </visual>
    <collision>
      <origin xyz="1.38778e-17 0.0851134 0.0224" rpy="3.14159 2.12846e-16 -1.5708"/>
      <geometry>
        <mesh filename="package://servobot_description/meshes/mg995_gear2.stl"/>
      </geometry>
    </collision>
  </link>
  <!-- Joint from hipasm_4 to legasmflipped2 -->
  <joint name="br_top" type="revolute">
    <origin xyz="-0.0274 6.245e-17 -0.03945" rpy="3.14159 -1.5708 0"/>
    <parent link="hipasm_4"/>
    <child link="legasmflipped2"/>
    <axis xyz="0 0 1"/>
    <limit effort="10" velocity="10" lower="-3.14159" upper="3.14159"/>
  </joint>
  <!-- Joint from chassisasm to hipasm_4 -->
  <joint name="br_hip" type="revolute">
    <origin xyz="0.05102 -0.0444 -0.025" rpy="1.5708 -0 3.14159"/>
    <parent link="chassisasm"/>
    <child link="hipasm_4"/>
    <axis xyz="0 0 1"/>
    <limit effort="10" velocity="10" lower="-1" upper="1"/>
  </joint>
</robot>
